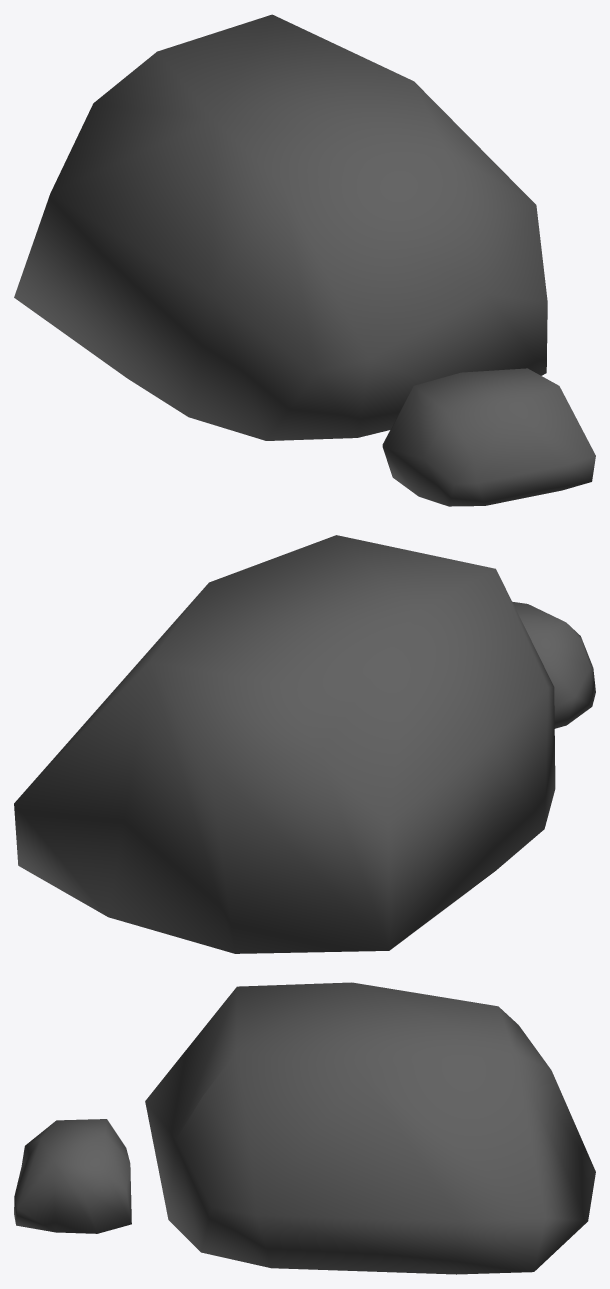
The model's file is SS_Rock_02.fbx.
The picture shows the model from 3 angles, top to bottom: view 1: azimuth 30°, elevation 25°; view 2: azimuth 150°, elevation 25°; view 3: azimuth 270°, elevation 25°; orthographic projection. The views are drawn at different scales.
Parts seen in each view (by area): view 1: Cube.018; view 2: Cube.018; view 3: Cube.018.
Part boxes in pixels (left/top/right/bottom): Cube.018: left=14, top=14, right=595, bottom=506; Cube.018: left=14, top=535, right=595, bottom=953; Cube.018: left=14, top=982, right=595, bottom=1274.
Bounding box in the file's own units: 54.63 × 33.26 × 95.19.
Materials: 1 (1 with a texture image).
